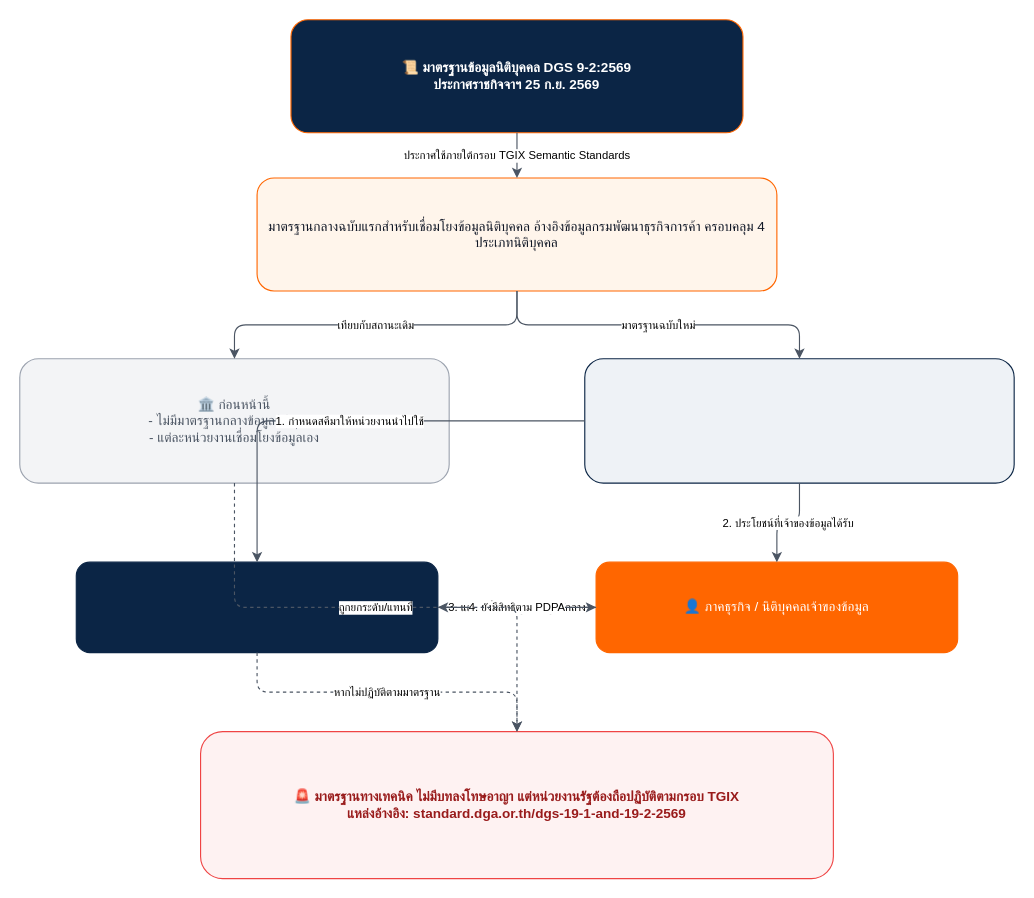
This 1034x898 diagram has some shape labels left out. Each missing label, with the centre of its shape:
🏢 หน่วยงานรัฐที่เชื่อมโยงข้อมูลนิติบุคคล: the point at 256,607
🚀 DGS 9-2:2569 - สคีมากลาง 7 องค์ประกอบ - มี XML/JSON และ API มาตรฐาน: the point at 799,420
